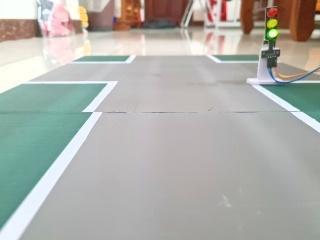green: (263, 2, 283, 50)
